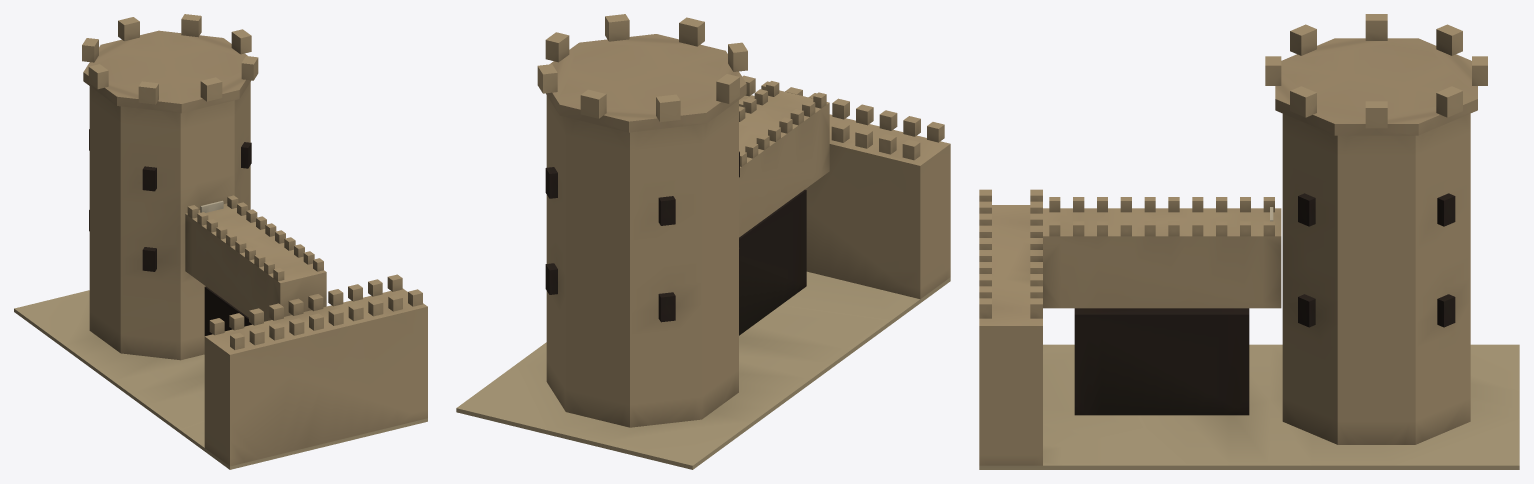
File: malmuerta.glb
3 views of the same model, side by side, from view 1: azimuth 30°, elevation 25°; view 2: azimuth 150°, elevation 25°; view 3: azimuth 270°, elevation 25° (orthographic). The views are drawn at different scales.
Visible parts, largest first — view 1: p1_tower, p0_wall, p2_battlements; view 2: p1_tower, p0_wall, p2_battlements; view 3: p1_tower, p0_wall, p2_battlements.
Boxes of the visible parts, x1=… form: p1_tower: x1=83, y1=30, x2=326, y2=360; p0_wall: x1=14, y1=274, x2=427, y2=469; p2_battlements: x1=82, y1=14, x2=258, y2=212; p1_tower: x1=545, y1=34, x2=829, y2=427; p0_wall: x1=456, y1=75, x2=950, y2=469; p2_battlements: x1=537, y1=14, x2=747, y2=122; p1_tower: x1=1043, y1=38, x2=1477, y2=444; p0_wall: x1=979, y1=189, x2=1519, y2=469; p2_battlements: x1=1265, y1=14, x2=1487, y2=221.
Size of the model in its own units: 18 by 24.2 by 34.
